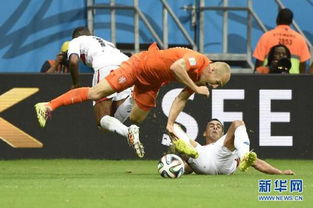fall: (48, 30, 230, 153)
